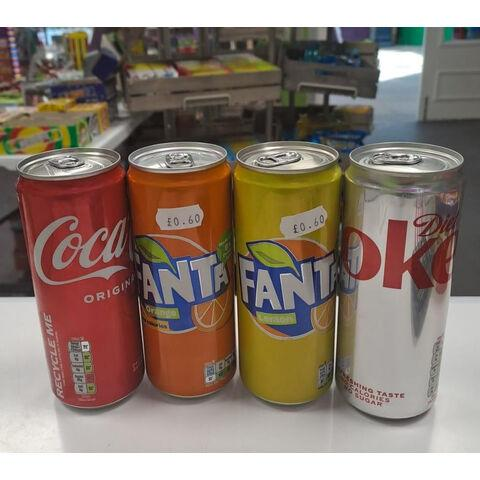can: (337, 141, 463, 419), (17, 149, 143, 408), (233, 141, 341, 405), (128, 142, 235, 398)
